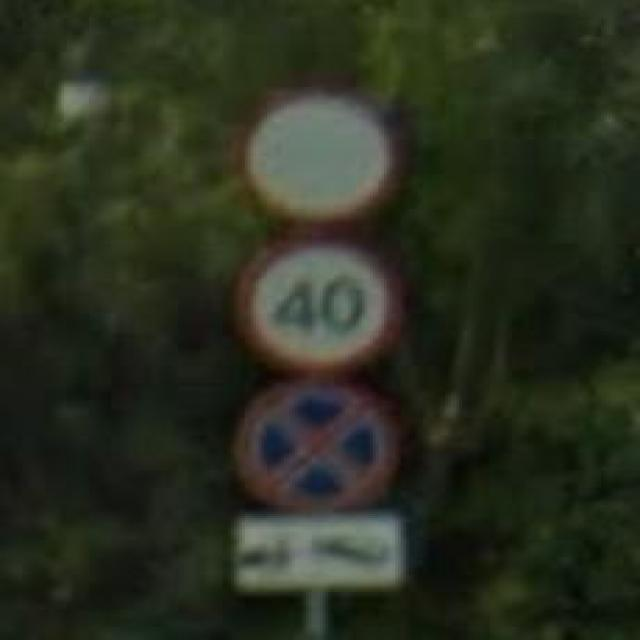traffic_sign: (237, 235, 406, 385), (234, 87, 400, 231), (237, 383, 400, 516)
